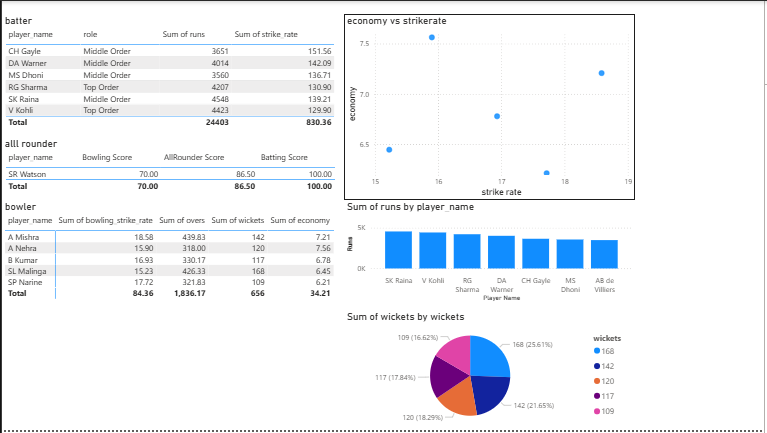

Layout of this report page (visuals, bound fields, positions):
{"tool":"powerbi","page":{"name":"Page 1","canvas":[1280,720],"ordinal":0},"visuals":[{"type":"tableEx","title":"batter","fields":{"Values":["best_xi_batsmen_metrics.player_name","best_xi_batsmen_metrics.role","best_xi_batsmen_metrics.runs","best_xi_batsmen_metrics.strike_rate"]},"box":[0,21.8,574.5,230.1],"z":0},{"type":"tableEx","title":"alll rounder ","fields":{"Values":["top_all_rounders.player_name ","best_xi_batsmen_metrics.Bowling Score","best_xi_batsmen_metrics.AllRounder Score","best_xi_batsmen_metrics.Batting Score"]},"box":[0,228.5,574.5,105.8],"z":1000},{"type":"pivotTable","title":"bowler ","fields":{"Rows":["best_xi_bowlers.player_name"],"Values":["best_xi_bowlers.bowling_strike_rate","best_xi_bowlers.overs","best_xi_bowlers.wickets","best_xi_bowlers.economy"]},"box":[0,334.3,574.5,174.7],"z":2000},{"type":"card","fields":{"Values":["select"]},"box":[0,519,574,175],"z":3000},{"type":"scatterChart","title":"economy vs strikerate ","fields":{"Category":["best_xi_bowlers.player_name"],"X":["best_xi_bowlers.bowling_strike_rate"],"Y":["best_xi_bowlers.economy"]},"box":[574.5,21.8,488.8,312.4],"z":4000},{"type":"clusteredColumnChart","fields":{"Y":["best_xi_batsmen_metrics.runs"],"Category":["best_xi_batsmen_metrics.player_name"]},"box":[574,334,489,175],"z":5000},{"type":"pieChart","fields":{"Y":["best_xi_bowlers.wickets"],"Category":["best_xi_bowlers.wickets"]},"box":[574.5,519.1,488.8,201.6],"z":5001}]}

Visuals, with their boxes in screenshot pixels (x1, y1, x2, y2), scaled from the page's 1280x720 canvas onto the 767x433 screenshot:
"batter" tableEx: [x1=0, y1=13, x2=344, y2=151]
"alll rounder " tableEx: [x1=0, y1=137, x2=344, y2=201]
"bowler " pivotTable: [x1=0, y1=201, x2=344, y2=306]
card - select: [x1=0, y1=312, x2=344, y2=417]
"economy vs strikerate " scatterChart: [x1=344, y1=13, x2=637, y2=201]
clusteredColumnChart - best_xi_batsmen_metrics.runs x best_xi_batsmen_metrics.player_name: [x1=344, y1=201, x2=637, y2=306]
pieChart - best_xi_bowlers.wickets x best_xi_bowlers.wickets: [x1=344, y1=312, x2=637, y2=432]
